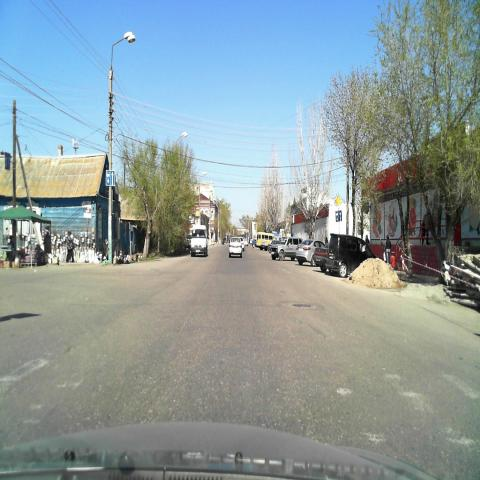5_11: (105, 170, 115, 186)
